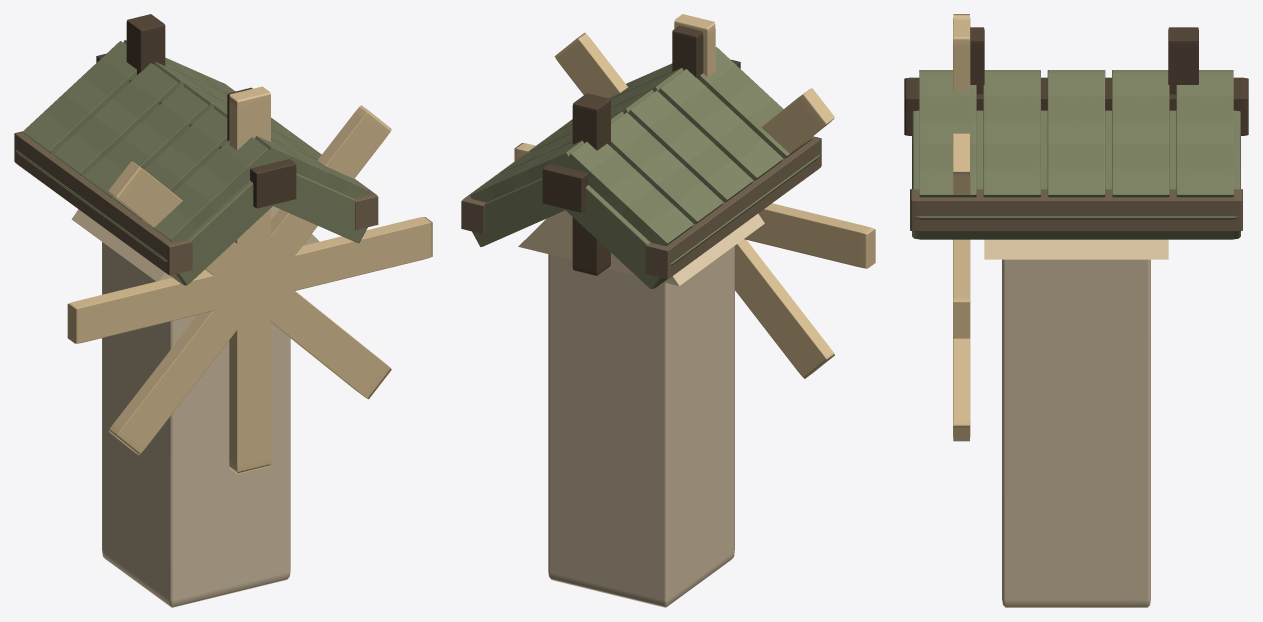
Rendered from windmill-0.glb.
3 renders of one model, left to right at view 1: azimuth 30°, elevation 25°; view 2: azimuth 150°, elevation 25°; view 3: azimuth 270°, elevation 25°, orthographic. The views are drawn at different scales.
Parts seen in each view (by area): view 1: windmill-0-0; view 2: windmill-0-0; view 3: windmill-0-0.
Part boxes in pixels (x1,y1,x2,y2): windmill-0-0: (14, 14, 432, 607); windmill-0-0: (461, 14, 875, 607); windmill-0-0: (904, 14, 1248, 607).
Bounding box in the file's own units: 1.15 × 1.59 × 0.9.
